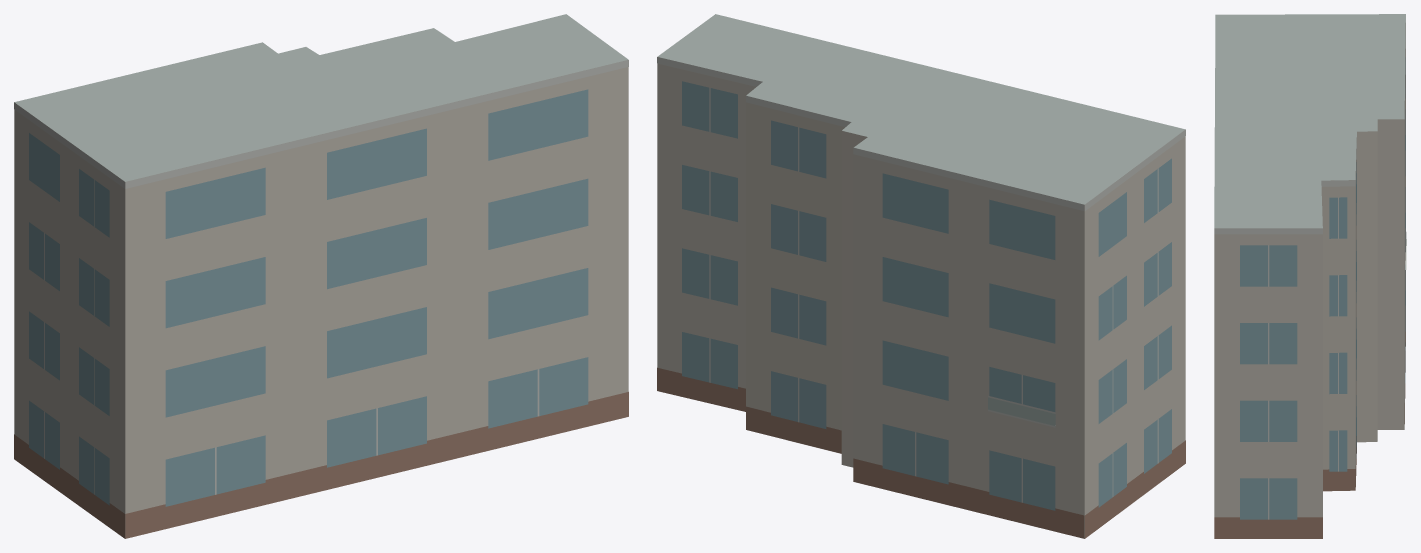
Rendered from survey-upis-32993247.glb.
3 renders of one model, left to right at view 1: azimuth 30°, elevation 25°; view 2: azimuth 150°, elevation 25°; view 3: azimuth 270°, elevation 25°, orthographic. The views are drawn at different scales.
Visible parts, largest first — view 1: survey-upis-32993247.tmp; view 2: survey-upis-32993247.tmp; view 3: survey-upis-32993247.tmp.
Boxes of the visible parts, left/top/right/bottom form: survey-upis-32993247.tmp: left=14, top=14, right=628, bottom=538; survey-upis-32993247.tmp: left=657, top=14, right=1185, bottom=538; survey-upis-32993247.tmp: left=1214, top=14, right=1406, bottom=538.
Bounding box in the file's own units: 18.06 × 12.2 × 6.86.
